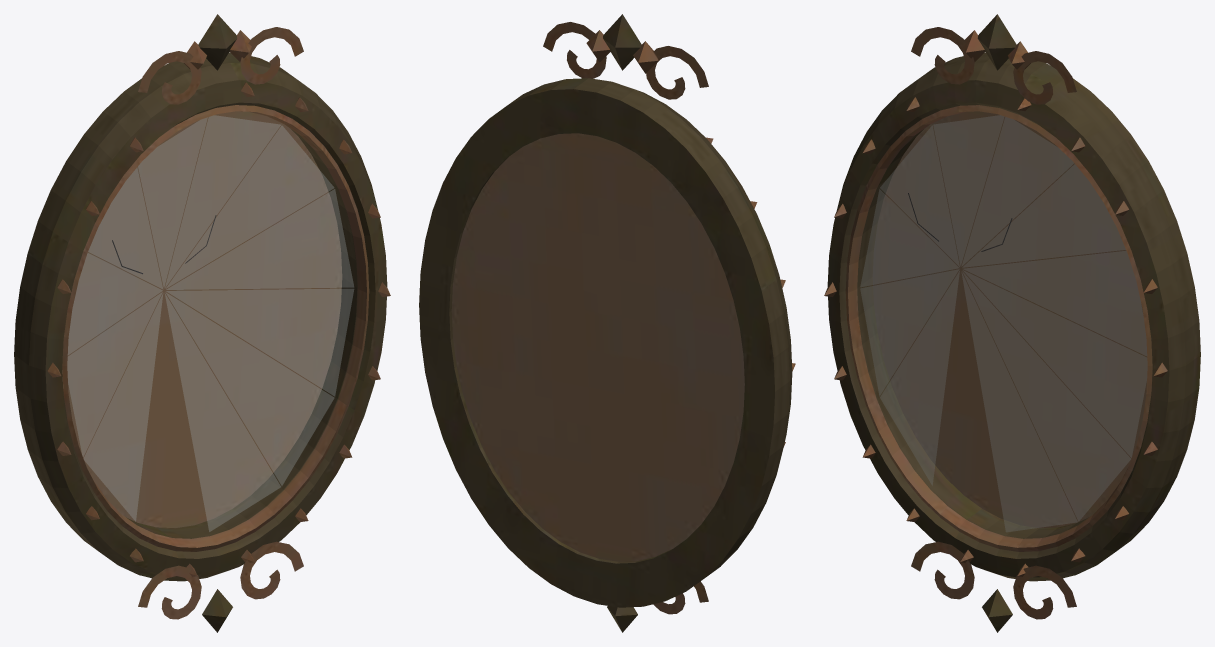
Rendered from L23_wall_mirror_v1.glb.
The picture shows the model from 3 angles, left to right: view 1: azimuth 30°, elevation 25°; view 2: azimuth 150°, elevation 25°; view 3: azimuth 330°, elevation 25°; orthographic projection.
Parts seen in each view (by area): view 1: Carved structural frame; view 2: Carved structural frame; view 3: Carved structural frame.
Part boxes in pixels (<box>): Carved structural frame: <box>14,14,390,632</box>; Carved structural frame: <box>419,14,795,632</box>; Carved structural frame: <box>824,14,1200,632</box>.
Size of the model in its own units: 0.602 by 1 by 0.1.
Materials: 5 (4 with a texture image).
